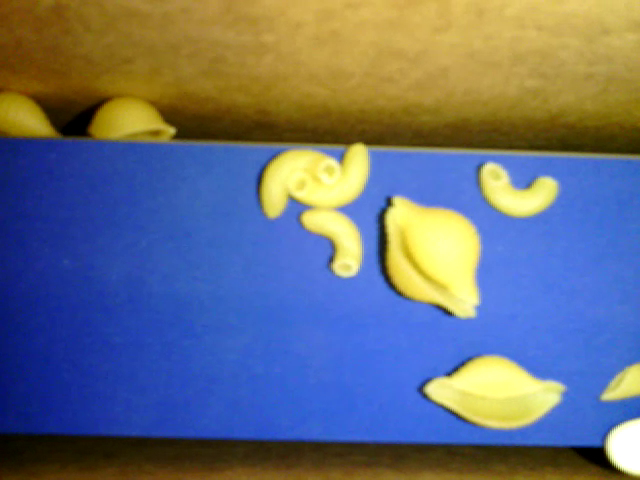elbow: (287, 138, 373, 208), (258, 147, 339, 219), (476, 160, 559, 219), (298, 207, 361, 273)
penne: (596, 363, 639, 403)
shell: (384, 208, 479, 323), (420, 354, 563, 430), (393, 191, 479, 305), (85, 95, 177, 141), (1, 84, 66, 139)
